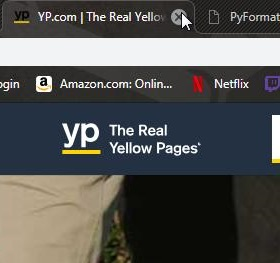cursor: (179, 10, 194, 32)
